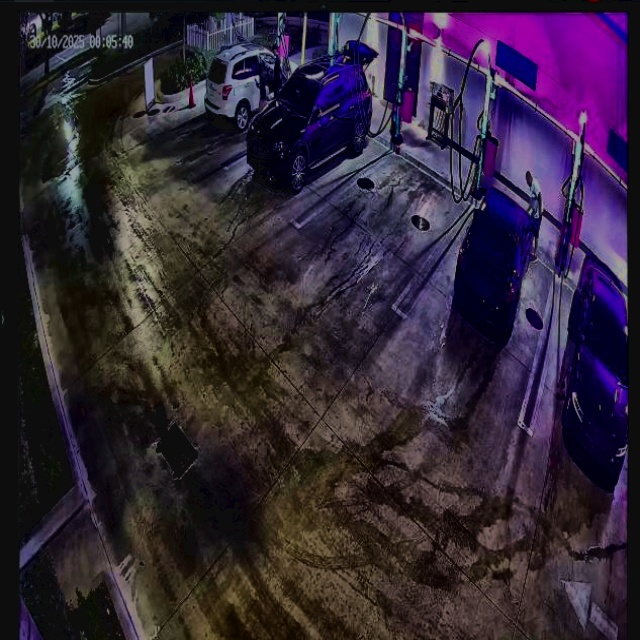Car: (245, 42, 374, 189), (452, 185, 534, 338)
